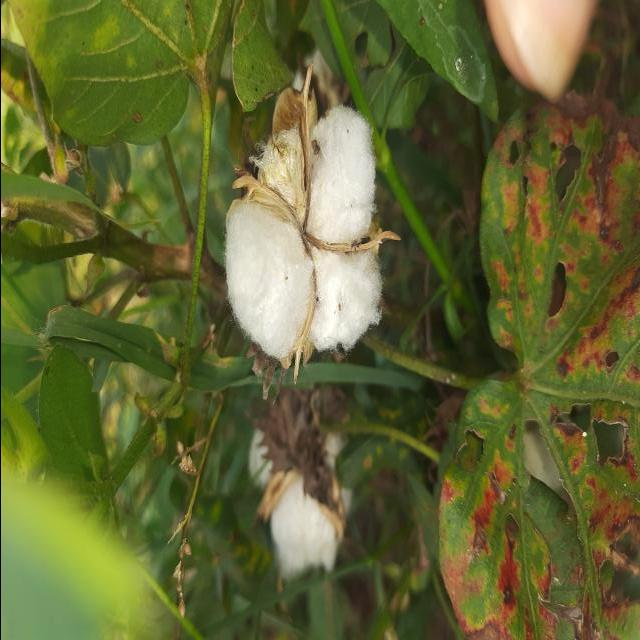Matured Cotton Boll: (228, 95, 384, 364), (244, 409, 346, 585)
